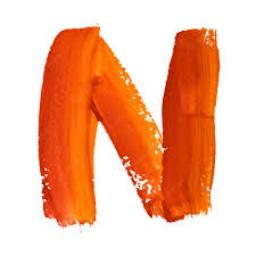n: (22, 14, 230, 234)
